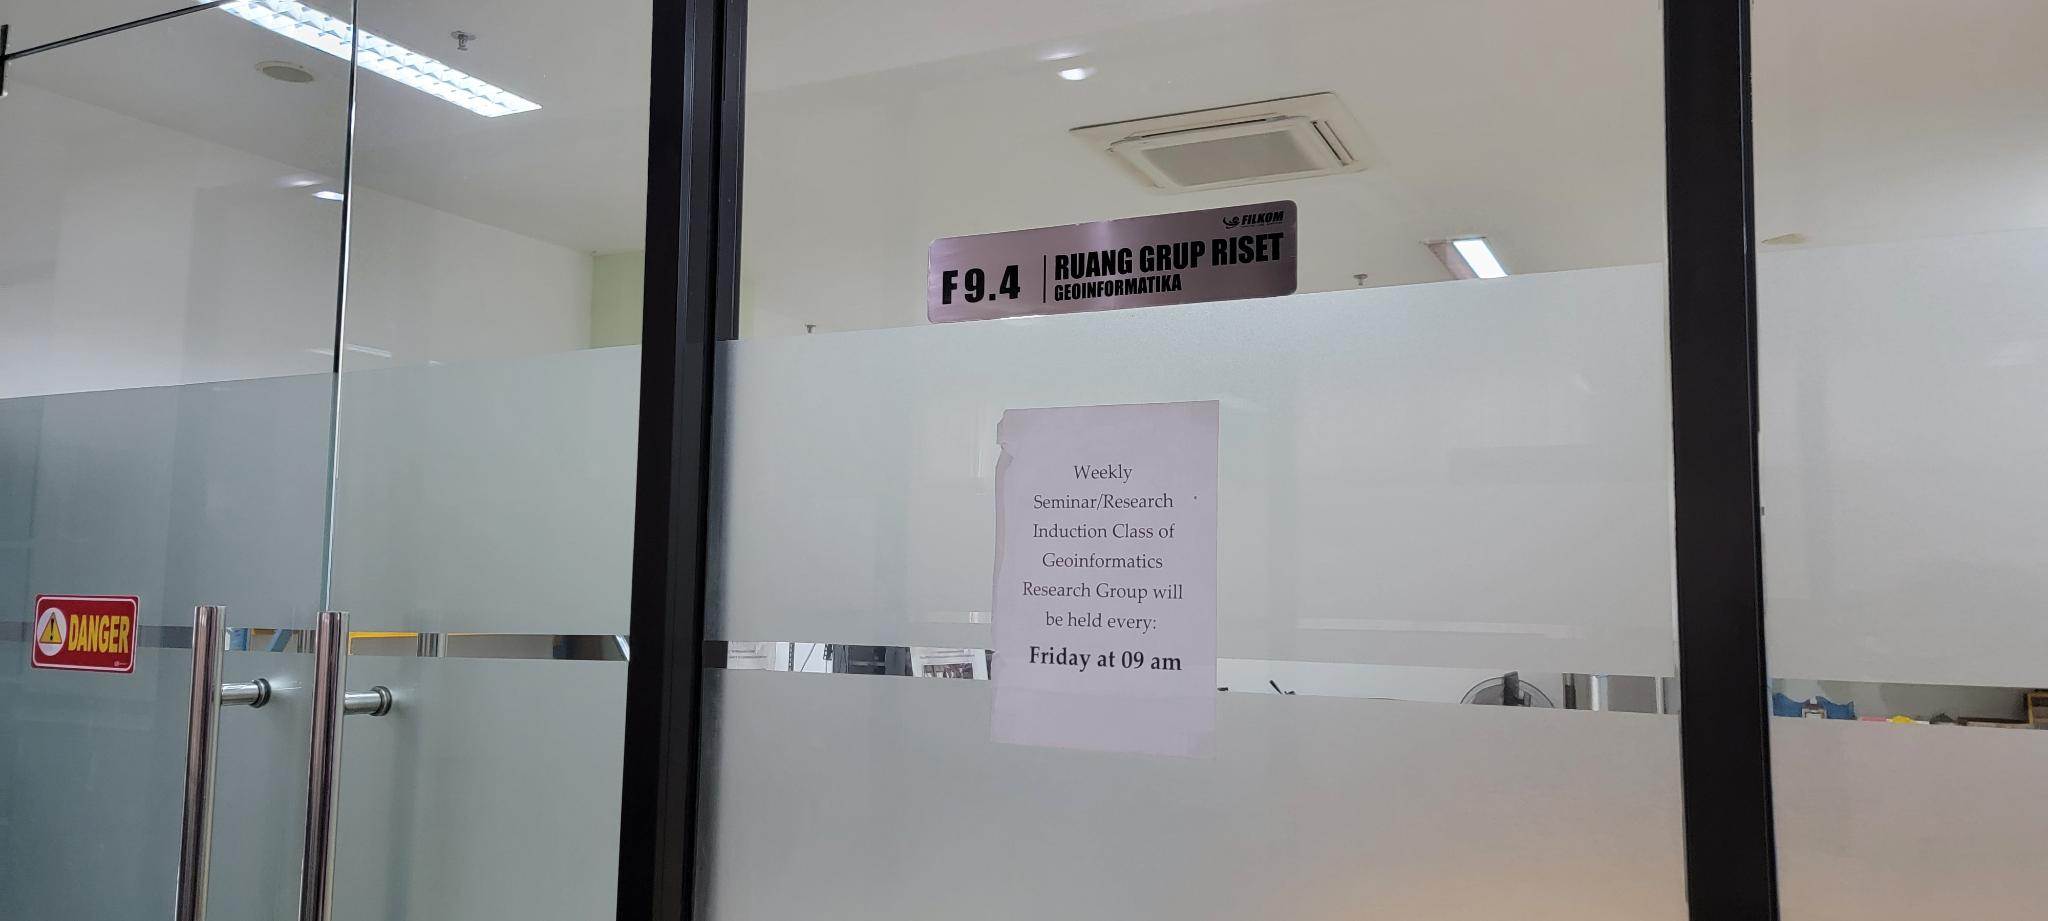plate: (925, 200, 1298, 325)
